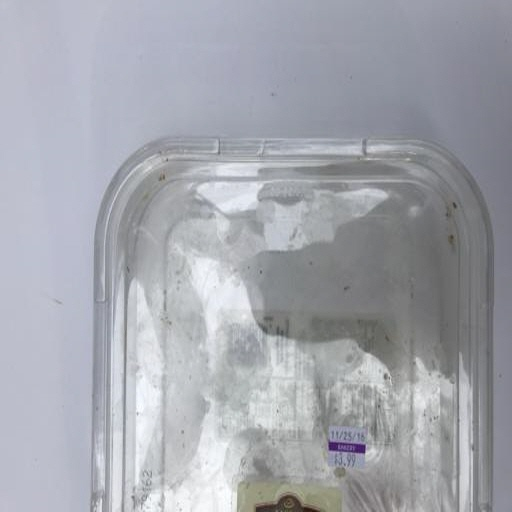Plastic_4: (94, 133, 492, 512)
